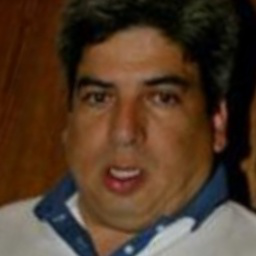Person: (39, 1, 256, 253)
